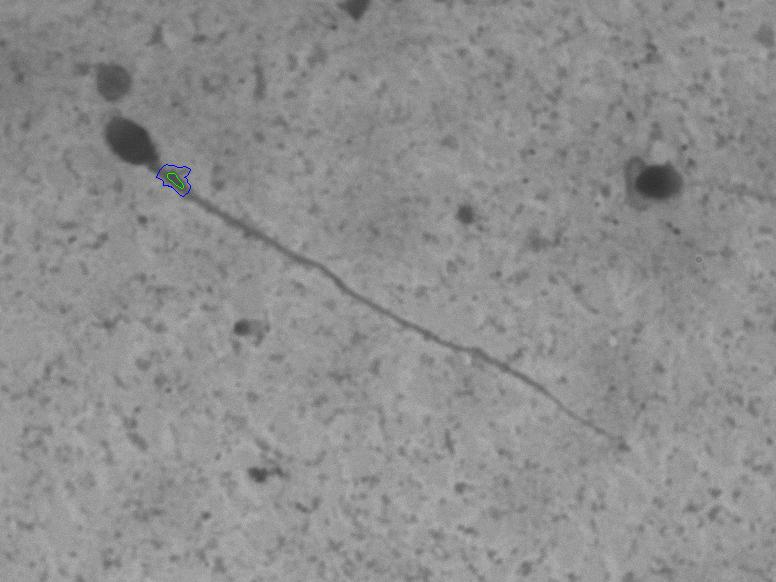Abnormal: (608, 121, 701, 266)
Normal: (78, 108, 585, 449)
